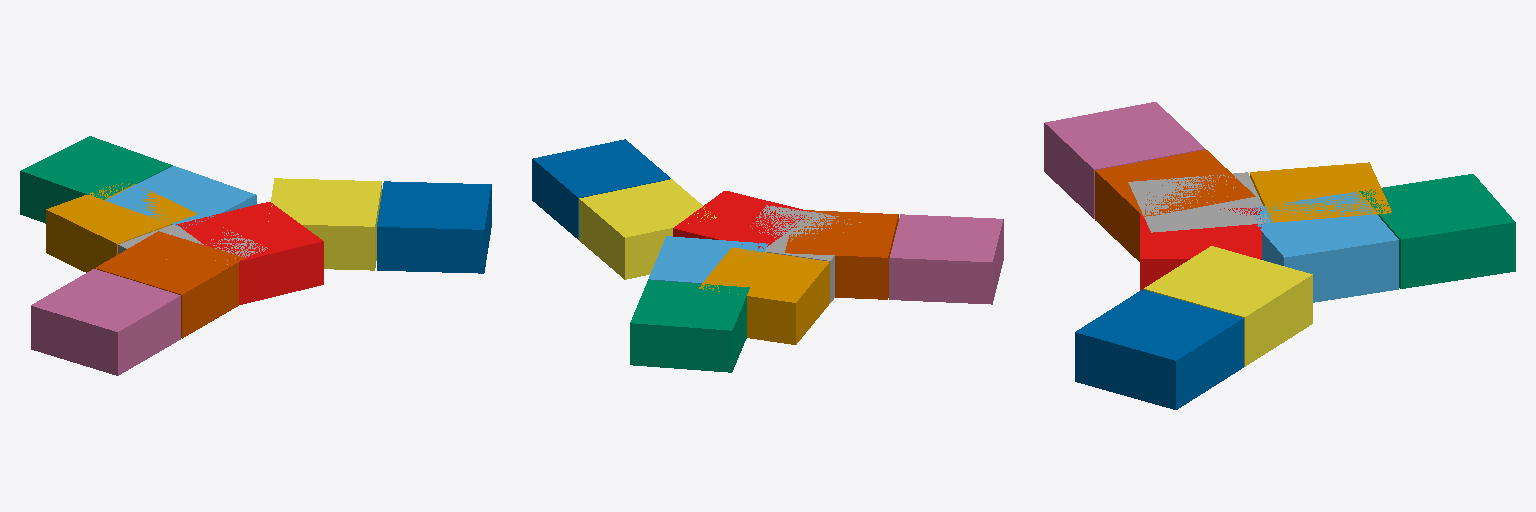
The robot description file, URDF, robot "Model_Models/Model_186.urdf3":
<?xml version='1.0' encoding='UTF-8'?>
<robot name="Model_Models/Model_186.urdf3">
  <link name="base_link">
    <inertial>
      <origin xyz="0.0 0.0 0.0" rpy="0.0 -0.0 0.0"/>
      <mass value="1.0"/>
      <inertia ixx="1.0" ixy="0.0" ixz="0.0" iyy="1.0" iyz="0.0" izz="1.0"/>
    </inertial>
    <visual>
      <geometry>
        <box size="0.67 0.67 0.3 "/>
      </geometry>
      <material name="red"/>
      <origin xyz="0.0 0.0 0.0" rpy="0.0 -0.0 0.0"/>
    </visual>
    <collision>
      <geometry>
        <box size="0.67 0.67 0.3 "/>
      </geometry>
      <origin xyz="0.0 0.0 0.0" rpy="0.0 0.0 0.0"/>
    </collision>
  </link>
  <link name="arm_0_arm1">
    <inertial>
      <origin xyz="0.0 0.34 0.0" rpy="0.0 0.0 0.0"/>
      <mass value="1.0"/>
      <inertia ixx="0.0" ixy="0.0" ixz="0.0" iyy="0.0" iyz="0.0" izz="0.0"/>
    </inertial>
    <visual>
      <geometry>
        <box size="0.67 0.67 0.3 "/>
      </geometry>
      <origin xyz="0.0 0.34 0.0" rpy="0.0 0.0 0.0"/>
    </visual>
    <collision>
      <geometry>
        <box size="0.67 0.67 0.3 "/>
      </geometry>
      <origin xyz="0.0 0.34 0.0" rpy="0.0 0.0 0.0"/>
    </collision>
  </link>
  <link name="arm_0_arm2">
    <inertial>
      <origin xyz="0.0 0.34 0.0" rpy="0.0 0.0 0.0"/>
      <mass value="1.0"/>
      <inertia ixx="0.0" ixy="0.0" ixz="0.0" iyy="0.0" iyz="0.0" izz="0.0"/>
    </inertial>
    <visual>
      <geometry>
        <box size="0.67 0.67 0.3 "/>
      </geometry>
      <origin xyz="0.0 0.34 0.0" rpy="0.0 0.0 0.0"/>
    </visual>
    <collision>
      <geometry>
        <box size="0.67 0.67 0.3 "/>
      </geometry>
      <origin xyz="0.0 0.34 0.0" rpy="0.0 0.0 0.0"/>
    </collision>
  </link>
  <link name="arm_2_arm1">
    <inertial>
      <origin xyz="0.0 0.34 0.0" rpy="0.0 0.0 0.0"/>
      <mass value="1.0"/>
      <inertia ixx="0.0" ixy="0.0" ixz="0.0" iyy="0.0" iyz="0.0" izz="0.0"/>
    </inertial>
    <visual>
      <geometry>
        <box size="0.67 0.67 0.3 "/>
      </geometry>
      <origin xyz="0.0 0.34 0.0" rpy="0.0 0.0 0.0"/>
    </visual>
    <collision>
      <geometry>
        <box size="0.67 0.67 0.3 "/>
      </geometry>
      <origin xyz="0.0 0.34 0.0" rpy="0.0 0.0 0.0"/>
    </collision>
  </link>
  <link name="arm_2_arm2">
    <inertial>
      <origin xyz="0.0 0.34 0.0" rpy="0.0 0.0 0.0"/>
      <mass value="1.0"/>
      <inertia ixx="0.0" ixy="0.0" ixz="0.0" iyy="0.0" iyz="0.0" izz="0.0"/>
    </inertial>
    <visual>
      <geometry>
        <box size="0.67 0.67 0.3 "/>
      </geometry>
      <origin xyz="0.0 0.34 0.0" rpy="0.0 0.0 0.0"/>
    </visual>
    <collision>
      <geometry>
        <box size="0.67 0.67 0.3 "/>
      </geometry>
      <origin xyz="0.0 0.34 0.0" rpy="0.0 0.0 0.0"/>
    </collision>
  </link>
  <link name="arm_3_arm1">
    <inertial>
      <origin xyz="0.0 0.34 0.0" rpy="0.0 0.0 0.0"/>
      <mass value="1.0"/>
      <inertia ixx="0.0" ixy="0.0" ixz="0.0" iyy="0.0" iyz="0.0" izz="0.0"/>
    </inertial>
    <visual>
      <geometry>
        <box size="0.67 0.67 0.3 "/>
      </geometry>
      <origin xyz="0.0 0.34 0.0" rpy="0.0 0.0 0.0"/>
    </visual>
    <collision>
      <geometry>
        <box size="0.67 0.67 0.3 "/>
      </geometry>
      <origin xyz="0.0 0.34 0.0" rpy="0.0 0.0 0.0"/>
    </collision>
  </link>
  <link name="arm_3_arm2">
    <inertial>
      <origin xyz="0.0 0.34 0.0" rpy="0.0 0.0 0.0"/>
      <mass value="1.0"/>
      <inertia ixx="0.0" ixy="0.0" ixz="0.0" iyy="0.0" iyz="0.0" izz="0.0"/>
    </inertial>
    <visual>
      <geometry>
        <box size="0.67 0.67 0.3 "/>
      </geometry>
      <origin xyz="0.0 0.34 0.0" rpy="0.0 0.0 0.0"/>
    </visual>
    <collision>
      <geometry>
        <box size="0.67 0.67 0.3 "/>
      </geometry>
      <origin xyz="0.0 0.34 0.0" rpy="0.0 0.0 0.0"/>
    </collision>
  </link>
  <link name="arm_Permutation_3_arm1">
    <inertial>
      <origin xyz="0.0 0.34 0.0" rpy="0.0 0.0 0.0"/>
      <mass value="1.0"/>
      <inertia ixx="0.0" ixy="0.0" ixz="0.0" iyy="0.0" iyz="0.0" izz="0.0"/>
    </inertial>
    <visual>
      <geometry>
        <box size="0.67 0.67 0.3 "/>
      </geometry>
      <origin xyz="0.0 0.34 0.0" rpy="0.0 0.0 0.0"/>
    </visual>
    <collision>
      <geometry>
        <box size="0.67 0.67 0.3 "/>
      </geometry>
      <origin xyz="0.0 0.34 0.0" rpy="0.0 0.0 0.0"/>
    </collision>
  </link>
  <link name="arm_Permutation_3_arm2">
    <inertial>
      <origin xyz="0.0 0.34 0.0" rpy="0.0 0.0 0.0"/>
      <mass value="1.0"/>
      <inertia ixx="0.0" ixy="0.0" ixz="0.0" iyy="0.0" iyz="0.0" izz="0.0"/>
    </inertial>
    <visual>
      <geometry>
        <box size="0.67 0.67 0.3 "/>
      </geometry>
      <origin xyz="0.0 0.34 0.0" rpy="0.0 0.0 0.0"/>
    </visual>
    <collision>
      <geometry>
        <box size="0.67 0.67 0.3 "/>
      </geometry>
      <origin xyz="0.0 0.34 0.0" rpy="0.0 0.0 0.0"/>
    </collision>
  </link>
  <joint name="arm_0_jointBase" type="fixed">
    <limit effort="1.57" velocity="1.57" lower="-1.57" upper="1.57"/>
    <parent link="base_link"/>
    <child link="arm_0_arm1"/>
    <axis xyz="1. 0. 0."/>
    <origin xyz="0.0 0.34 0.0" rpy="0.0 0.0 0.35"/>
  </joint>
  <joint name="arm_0_joint1" type="revolute">
    <limit effort="1.57" velocity="1.57" lower="-1.57" upper="1.57"/>
    <parent link="arm_0_arm1"/>
    <child link="arm_0_arm2"/>
    <axis xyz="1. 0. 0."/>
    <origin xyz="0.0 0.68 0.0" rpy="0.0 0.0 0.0"/>
  </joint>
  <joint name="arm_2_jointBase" type="fixed">
    <limit effort="1.57" velocity="1.57" lower="-1.57" upper="1.57"/>
    <parent link="base_link"/>
    <child link="arm_2_arm1"/>
    <axis xyz="1. 0. 0."/>
    <origin xyz="0.34 0.34 0.0" rpy="0.0 0.0 -2.16"/>
  </joint>
  <joint name="arm_2_joint1" type="revolute">
    <limit effort="1.57" velocity="1.57" lower="-1.57" upper="1.57"/>
    <parent link="arm_2_arm1"/>
    <child link="arm_2_arm2"/>
    <axis xyz="1. 0. 0."/>
    <origin xyz="0.0 0.68 0.0" rpy="0.0 0.0 0.0"/>
  </joint>
  <joint name="arm_3_jointBase" type="fixed">
    <limit effort="1.57" velocity="1.57" lower="-1.57" upper="1.57"/>
    <parent link="base_link"/>
    <child link="arm_3_arm1"/>
    <axis xyz="1. 0. 0."/>
    <origin xyz="-0.34 0.0 0.0" rpy="0.0 0.0 1.99"/>
  </joint>
  <joint name="arm_3_joint1" type="revolute">
    <limit effort="1.57" velocity="1.57" lower="-1.57" upper="1.57"/>
    <parent link="arm_3_arm1"/>
    <child link="arm_3_arm2"/>
    <axis xyz="1. 0. 0."/>
    <origin xyz="0.0 0.68 0.0" rpy="0.0 0.0 0.0"/>
  </joint>
  <joint name="arm_Permutation_3_jointBase" type="fixed">
    <limit effort="1.57" velocity="1.57" lower="-1.57" upper="1.57"/>
    <parent link="base_link"/>
    <child link="arm_Permutation_3_arm1"/>
    <axis xyz="1. 0. 0."/>
    <origin xyz="-0.34 -0.34 0.0" rpy="0.0 0.0 0.19"/>
  </joint>
  <joint name="arm_Permutation_3_joint1" type="revolute">
    <limit effort="1.57" velocity="1.57" lower="-1.57" upper="1.57"/>
    <parent link="arm_Permutation_3_arm1"/>
    <child link="arm_Permutation_3_arm2"/>
    <axis xyz="1. 0. 0."/>
    <origin xyz="0.0 0.68 0.0" rpy="0.0 0.0 0.0"/>
  </joint>
  <material name="red">
    <color rgba="0.969 0.129 0.122 1.   "/>
  </material>
</robot>

--- What the picture shows (computed from the rendered views, not written in the file) ---
The picture shows the robot from 3 angles, left to right: view 1: azimuth 30°, elevation 25°; view 2: azimuth 150°, elevation 25°; view 3: azimuth 270°, elevation 25°; orthographic projection.
Robot: Model_Models/Model_186.urdf3 — 9 links, 8 joints (4 revolute, 4 fixed); root link base_link; default pose: every joint at zero.
Links seen in each view (by area): view 1: arm_3_arm2, arm_2_arm2, base_link, arm_3_arm1, arm_2_arm1, arm_0_arm2, arm_Permutation_3_arm2, arm_0_arm1, arm_Permutation_3_arm1; view 2: arm_0_arm2, arm_3_arm2, arm_Permutation_3_arm2, arm_2_arm1, arm_2_arm2, arm_3_arm1, base_link, arm_0_arm1, arm_Permutation_3_arm1; view 3: arm_2_arm2, arm_0_arm2, arm_0_arm1, arm_2_arm1, arm_3_arm2, arm_3_arm1, arm_Permutation_3_arm2, arm_Permutation_3_arm1, base_link.
Boxes of the visible links, <box> form: arm_3_arm2: <box>31,269,180,375</box>; arm_2_arm2: <box>377,181,491,273</box>; base_link: <box>176,202,323,304</box>; arm_3_arm1: <box>95,231,244,338</box>; arm_2_arm1: <box>268,178,381,270</box>; arm_0_arm2: <box>20,136,172,223</box>; arm_Permutation_3_arm2: <box>46,183,196,272</box>; arm_0_arm1: <box>105,166,256,228</box>; arm_Permutation_3_arm1: <box>118,219,267,264</box>; arm_0_arm2: <box>630,280,749,372</box>; arm_3_arm2: <box>889,214,1003,304</box>; arm_Permutation_3_arm2: <box>699,247,829,344</box>; arm_2_arm1: <box>579,179,716,279</box>; arm_2_arm2: <box>532,139,670,239</box>; arm_3_arm1: <box>785,210,898,299</box>; base_link: <box>673,191,811,248</box>; arm_0_arm1: <box>648,236,767,283</box>; arm_Permutation_3_arm1: <box>750,205,860,302</box>; arm_2_arm2: <box>1075,289,1243,409</box>; arm_0_arm2: <box>1359,174,1515,288</box>; arm_0_arm1: <box>1244,192,1398,302</box>; arm_2_arm1: <box>1144,246,1312,366</box>; arm_3_arm2: <box>1044,102,1205,218</box>; arm_3_arm1: <box>1095,150,1255,261</box>; arm_Permutation_3_arm2: <box>1250,162,1391,222</box>; arm_Permutation_3_arm1: <box>1128,172,1269,232</box>; base_link: <box>1140,208,1261,290</box>.
Size in the robot's own frame: 3.37 by 2.59 by 0.3 metres.
Geometry: primitives only (box / cylinder / sphere), no mesh files.